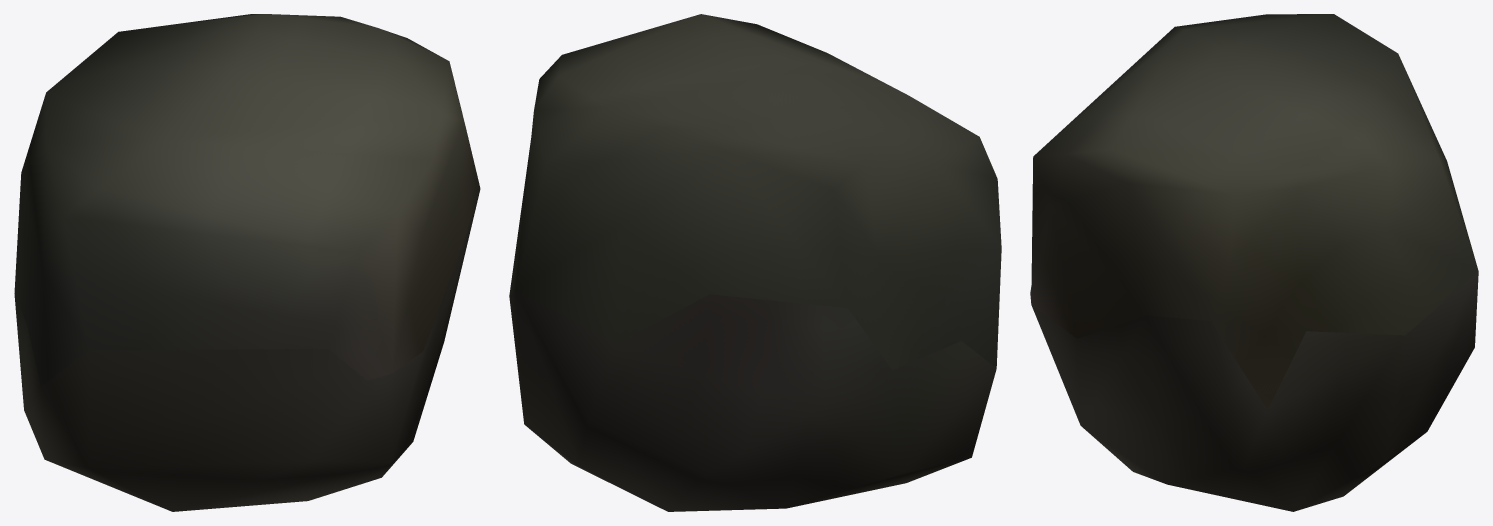
The picture shows the model from 3 angles, left to right: view 1: azimuth 30°, elevation 25°; view 2: azimuth 150°, elevation 25°; view 3: azimuth 270°, elevation 25°; orthographic projection. The views are drawn at different scales.
Parts seen in each view (by area): view 1: smallrock4; view 2: smallrock4; view 3: smallrock4.
Part boxes in pixels (x1,y1,x2,y2): smallrock4: (14,14,480,511); smallrock4: (509,14,1001,511); smallrock4: (1030,14,1478,511).
Size of the model in its own units: 0.8309 by 0.713 by 0.7671.
1 material, 1 textured.
